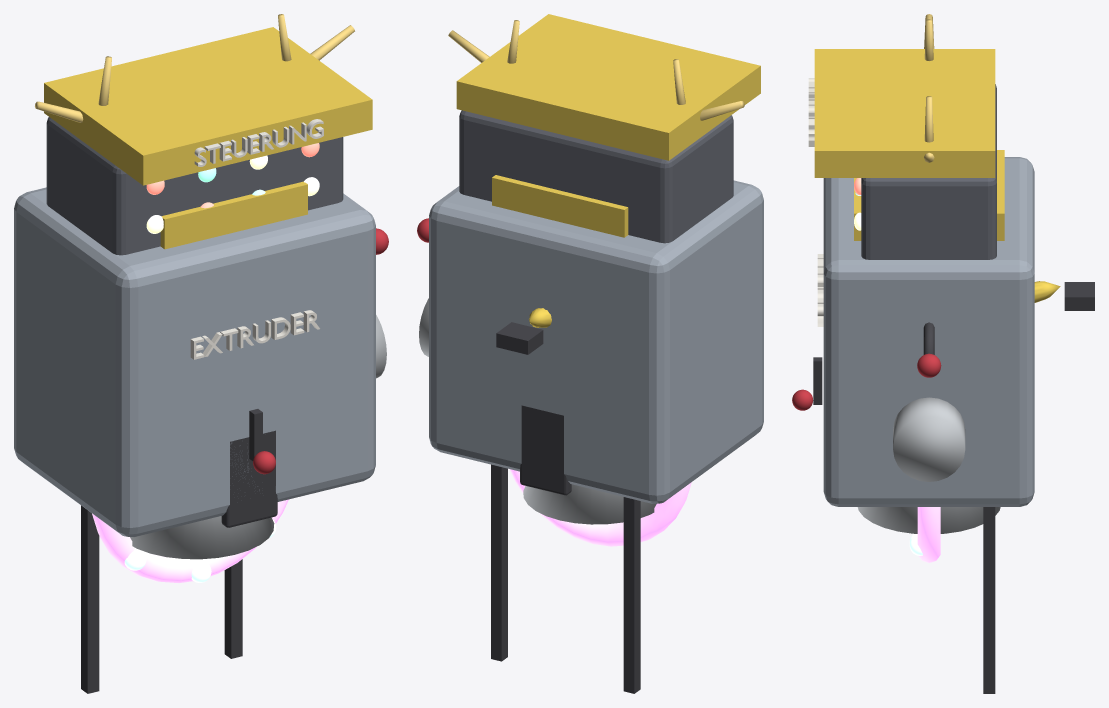
The model's file is machines.glb.
3 renders of one model, left to right at view 1: azimuth 30°, elevation 25°; view 2: azimuth 150°, elevation 25°; view 3: azimuth 270°, elevation 25°, orthographic. The views are drawn at different scales.
Parts seen in each view (by area): view 1: Extruder, ControlPanel, Hopper, RollerMachine, Portal, Generator; view 2: Extruder, ControlPanel, Hopper, RollerMachine, Portal, Generator, RobotArm; view 3: Extruder, ControlPanel, Hopper, Portal, RobotArm, Generator, RollerMachine, Press.
Boxes of the visible parts, box(x1,y1,x2,y2) form: Extruder: box(14, 181, 386, 536); ControlPanel: box(44, 27, 372, 255); Hopper: box(81, 505, 274, 693); RollerMachine: box(221, 409, 277, 527); Portal: box(92, 499, 288, 582); Generator: box(35, 14, 354, 122); Extruder: box(419, 175, 763, 503); ControlPanel: box(456, 14, 760, 243); Hopper: box(491, 464, 656, 693); RollerMachine: box(520, 405, 571, 495); Portal: box(509, 469, 691, 546); Generator: box(448, 20, 744, 120); RobotArm: box(496, 308, 551, 354); Extruder: box(817, 150, 1034, 506); ControlPanel: box(808, 49, 996, 259); Hopper: box(857, 507, 1000, 693); Portal: box(909, 507, 940, 562); RobotArm: box(1034, 281, 1094, 310); Generator: box(924, 14, 934, 162); RollerMachine: box(792, 357, 822, 410); Press: box(917, 322, 941, 377).
Size of the model in its own units: 1.23 by 2.2 by 1.
